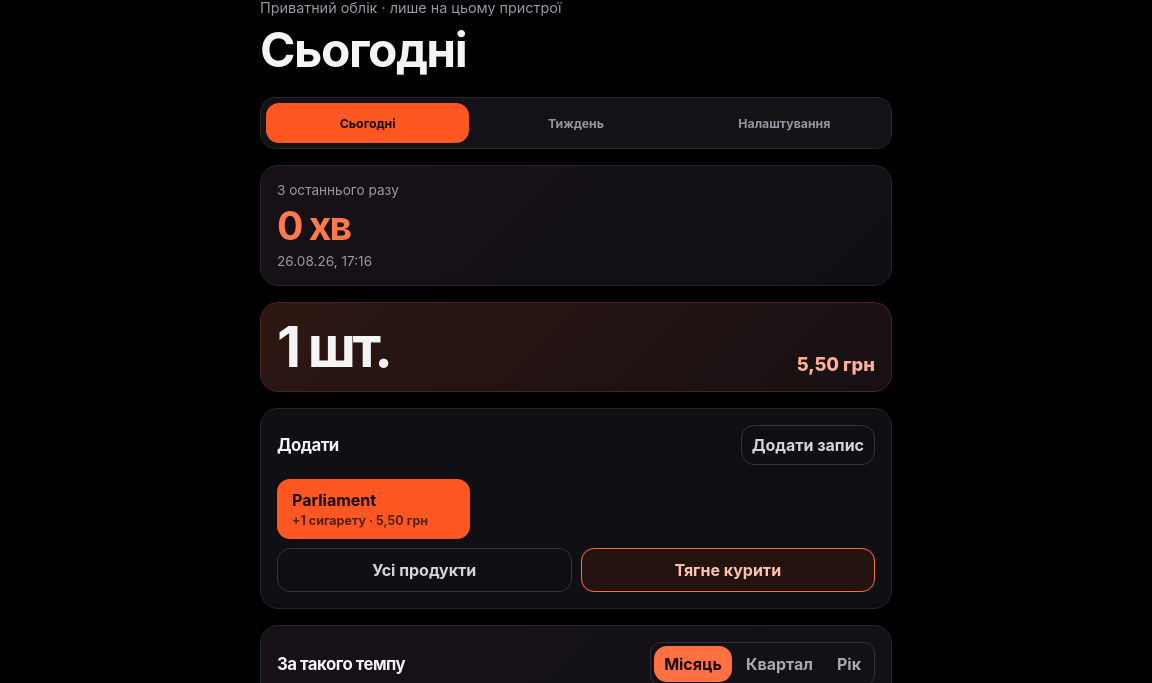
it: App › restores a hidden product from the unified change menu without changing its history
Click the tab "Налаштування" at (784, 123), box x1=683 y1=103 x2=886 y2=143
(page scrolled)
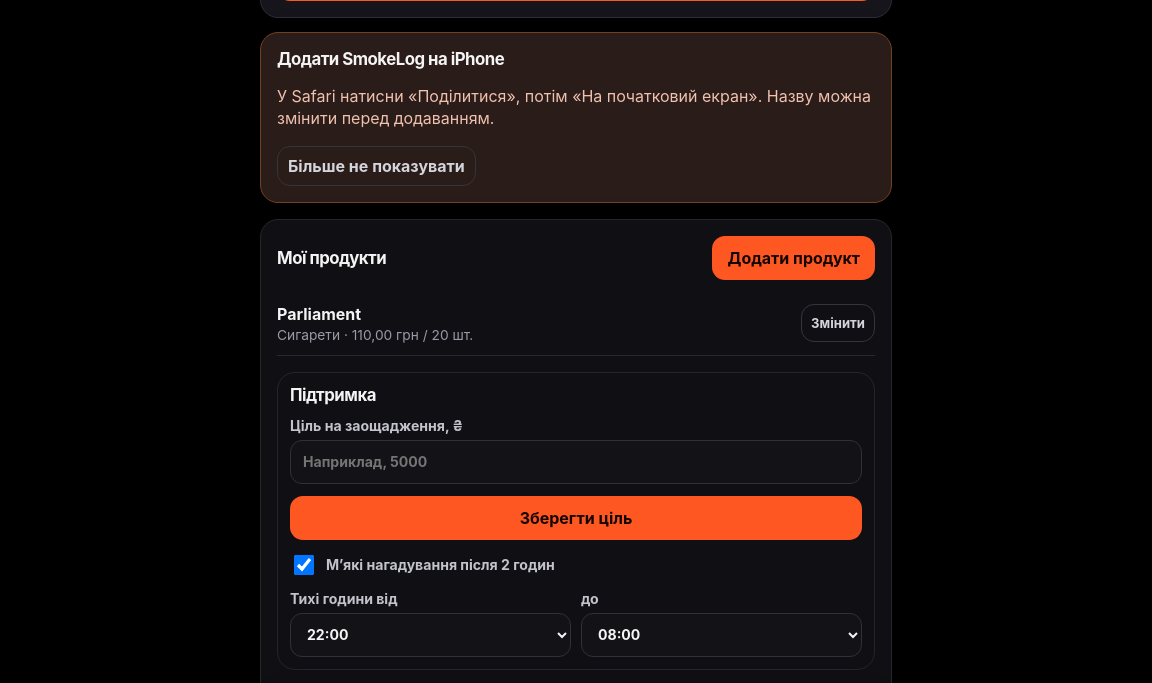
Click the button with aria-label "Змінити Parliament" at (838, 323), box x1=801 y1=304 x2=875 y2=342
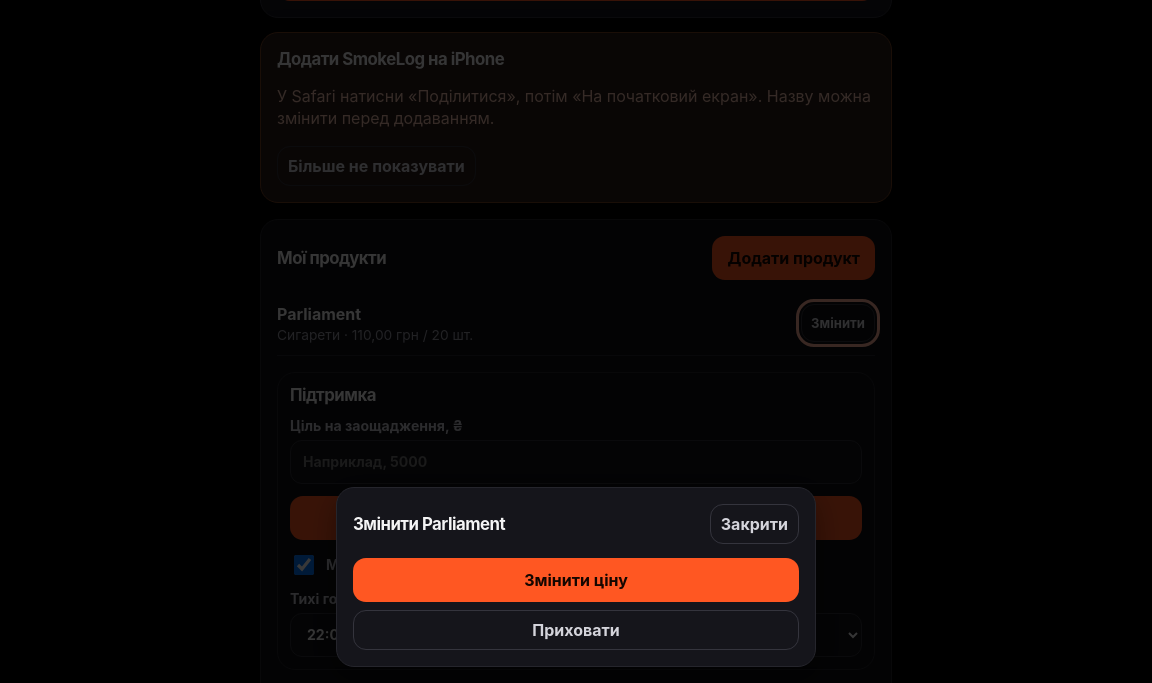
Click the button with aria-label "Приховати Parliament" at (576, 630), box x1=353 y1=610 x2=799 y2=650
(page scrolled)
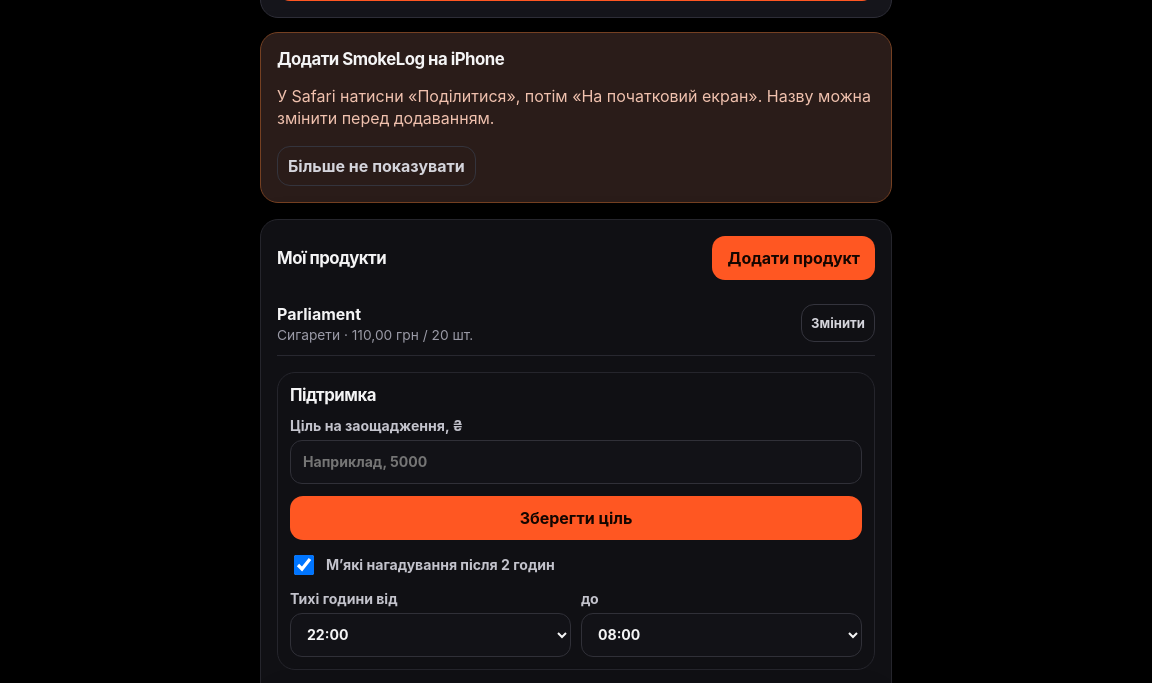
Click the button with aria-label "Змінити Parliament" at (838, 323), box x1=801 y1=304 x2=875 y2=342
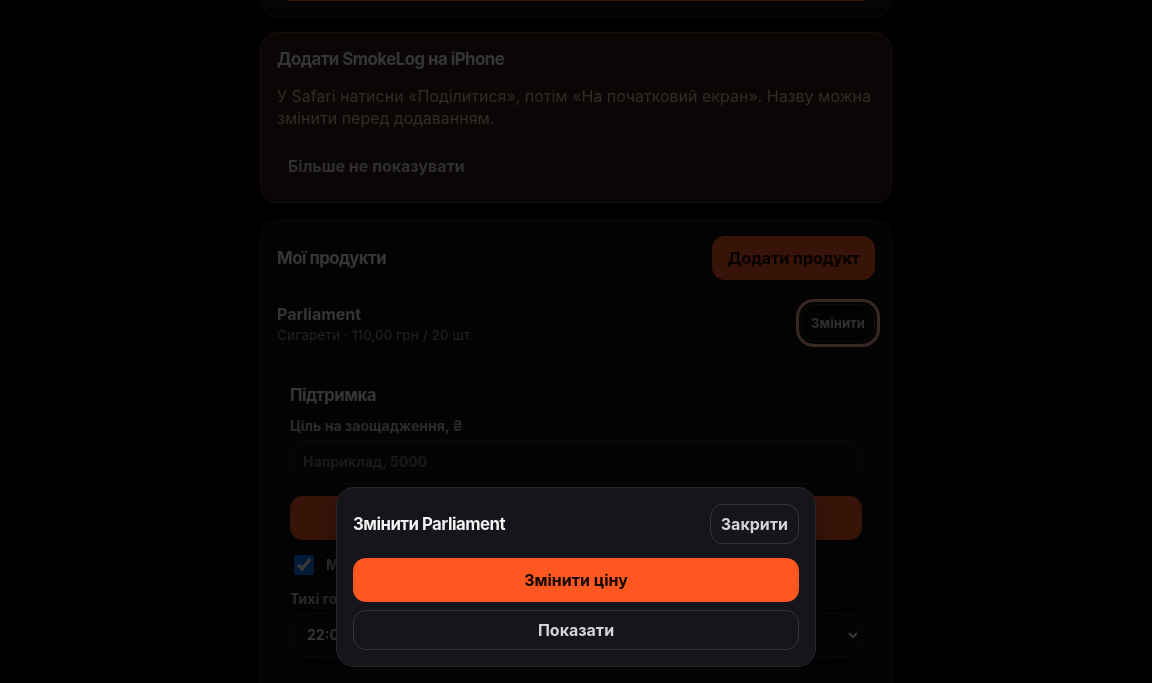
Click the button with aria-label "Показати Parliament" at (576, 630), box x1=353 y1=610 x2=799 y2=650
(page scrolled)
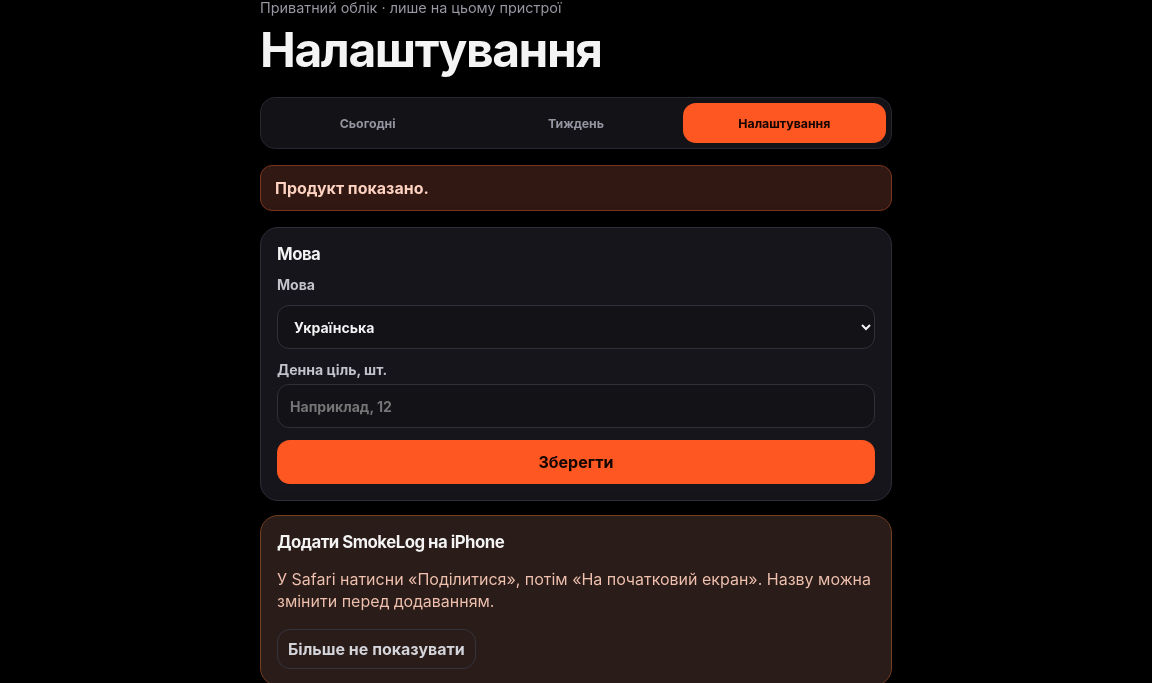
Now the text "Продукт показано." is shown, box x1=260 y1=165 x2=892 y2=211
Click the tab "Сьогодні" at (368, 123), box x1=266 y1=103 x2=469 y2=143
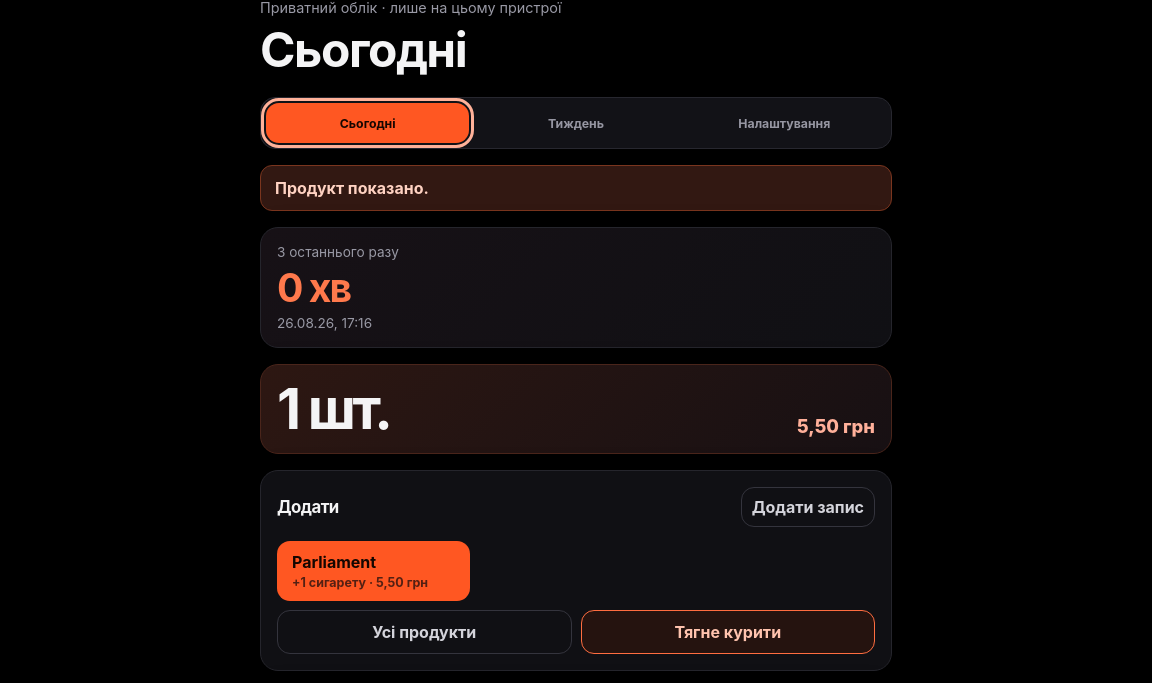
Now the button with aria-label "Parliament · +1 сигарету" is shown, box x1=277 y1=541 x2=470 y2=601
